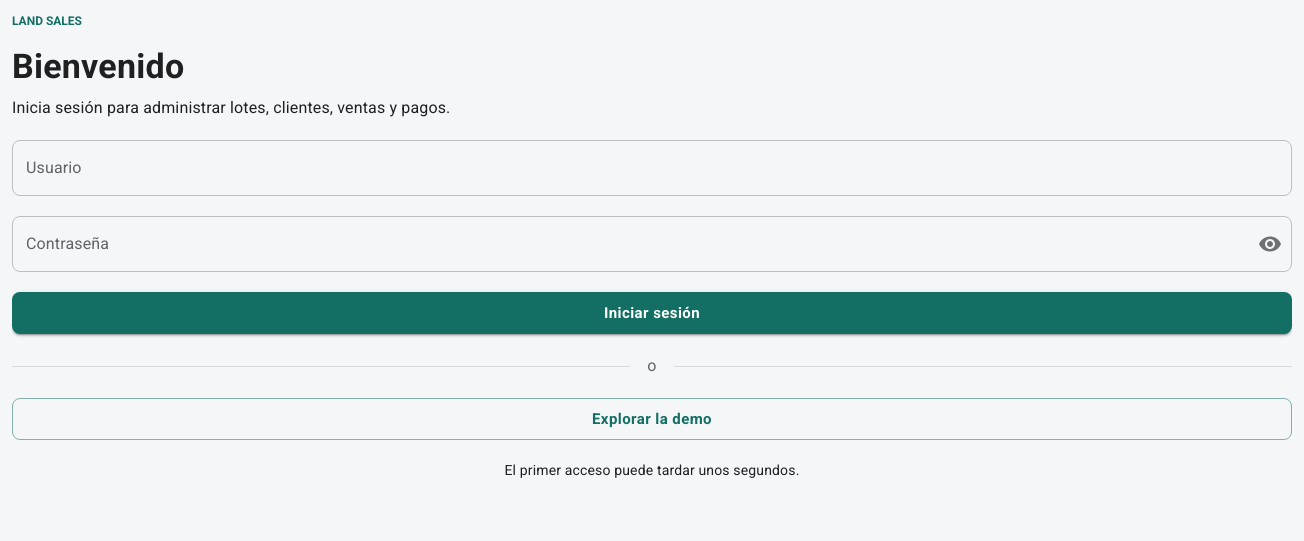
Test case: LoginForm › shows validation messages when submitting empty credentials
Click the button "Iniciar sesión": (652, 313) [12,292,1292,334]
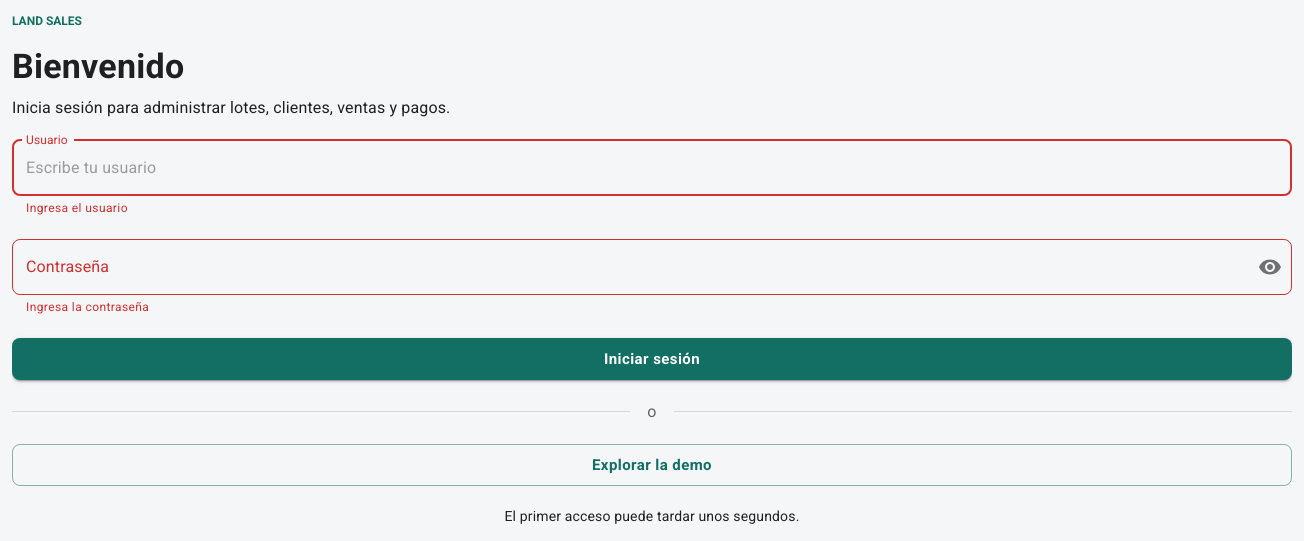
Now the text "Ingresa el usuario" is shown, box [26,201,128,215]
Now the text "Ingresa la contraseña" is shown, box [26,300,149,314]
